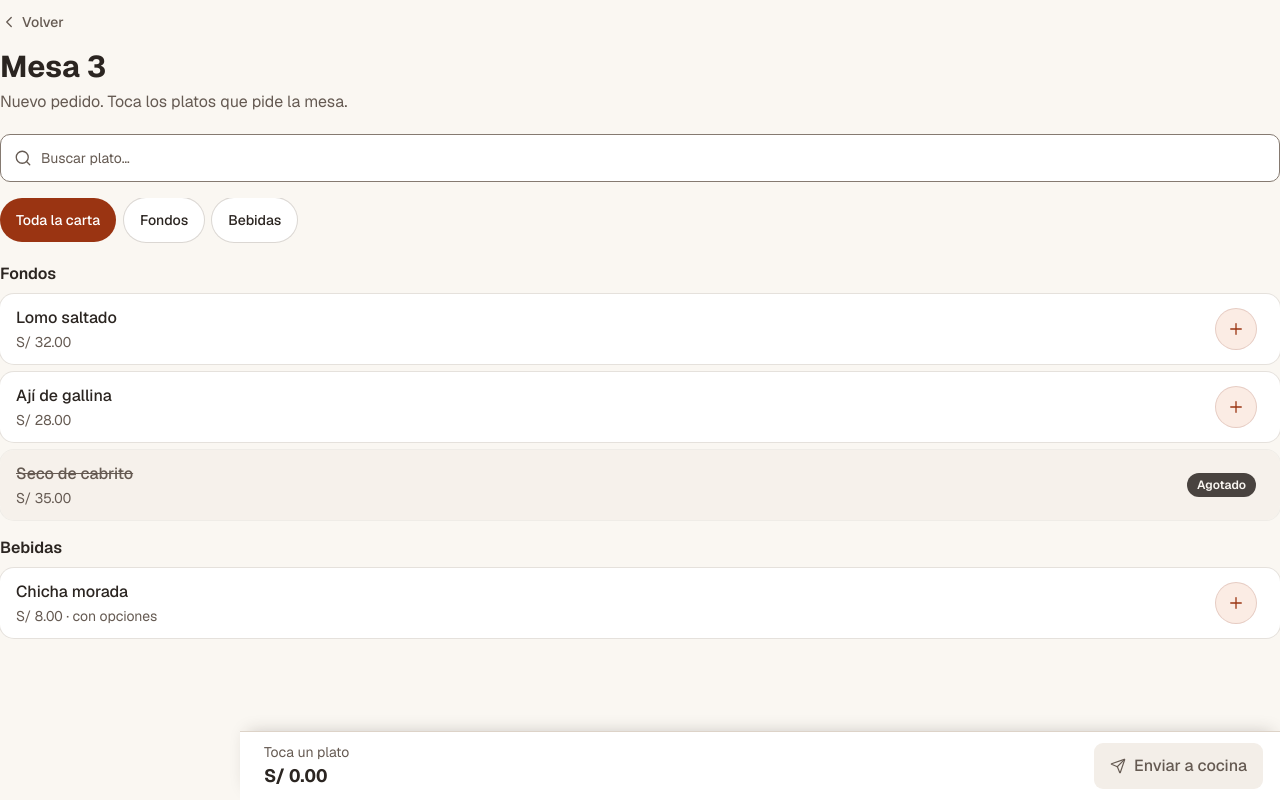
Test case: tomar un pedido en una mesa › si la cocina no lo recibe, el pedido queda abierto y lleva a su detalle
What coordinates should you click on to do the following:
click the button "Lomo saltado S/ 32.00"
I would click on:
 (66, 317)
Its box is [0,294,1272,364].
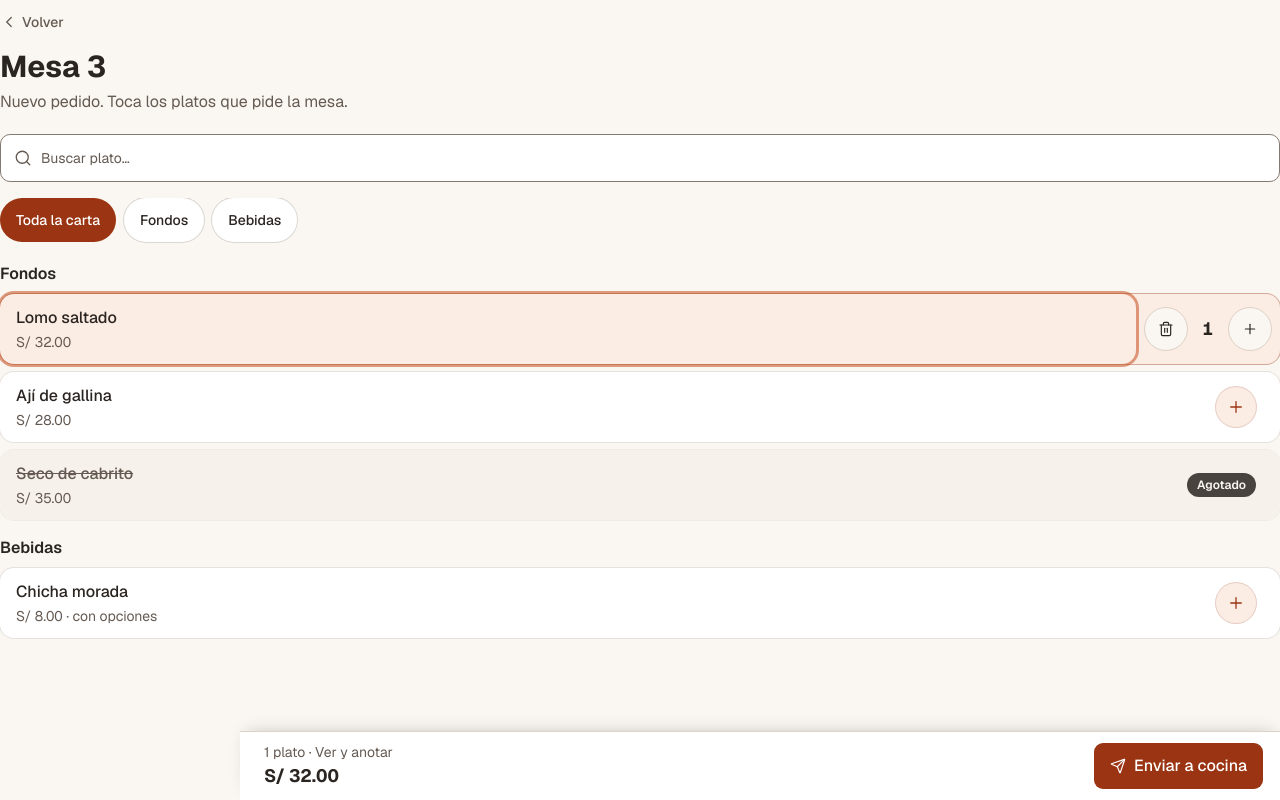
What coordinates should you click on to do the following:
click the button "Enviar a cocina"
I would click on:
 (1178, 766)
Its box is [1093,742,1264,790].
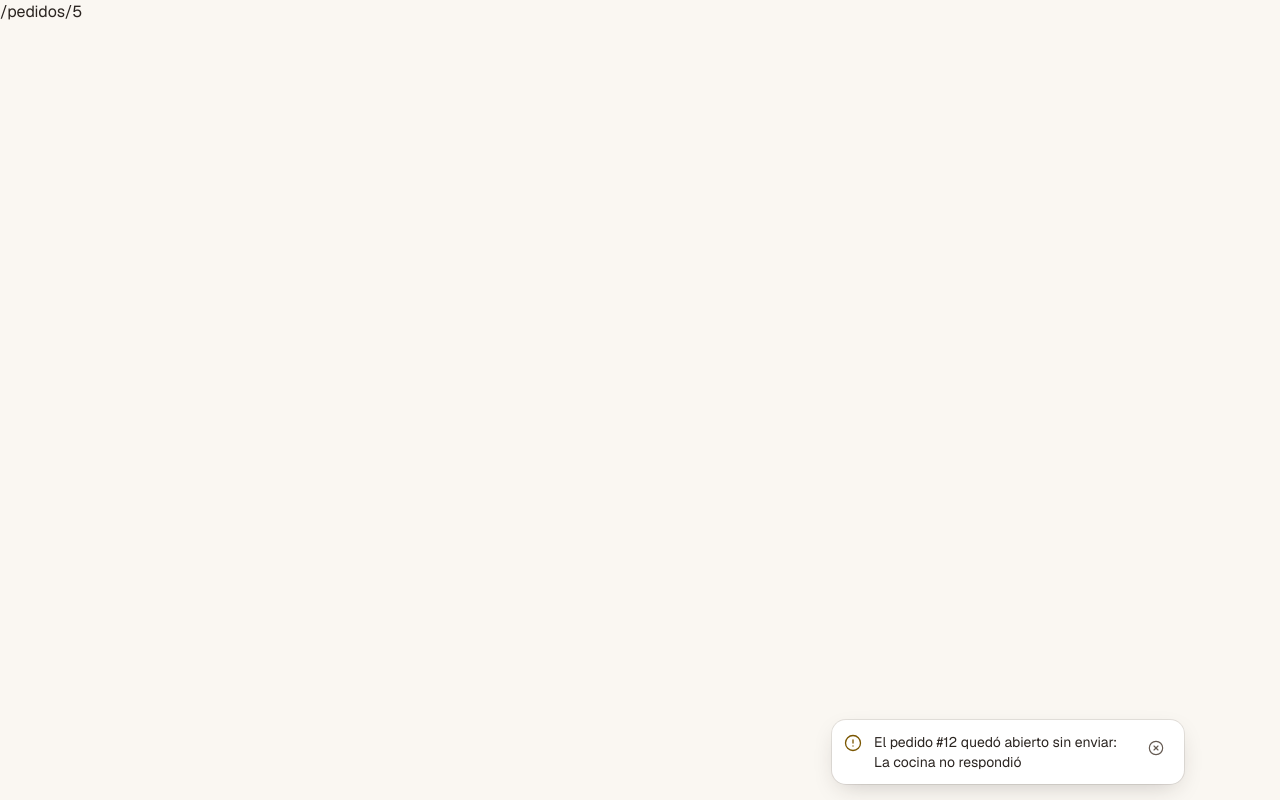
Check: the text "El pedido #12 quedó abierto sin enviar: La cocina no respondió" is shown, box [874,732,1128,772]
Check: the text named "Ruta actual" reads "/pedidos/5", box [0,1,82,22]
